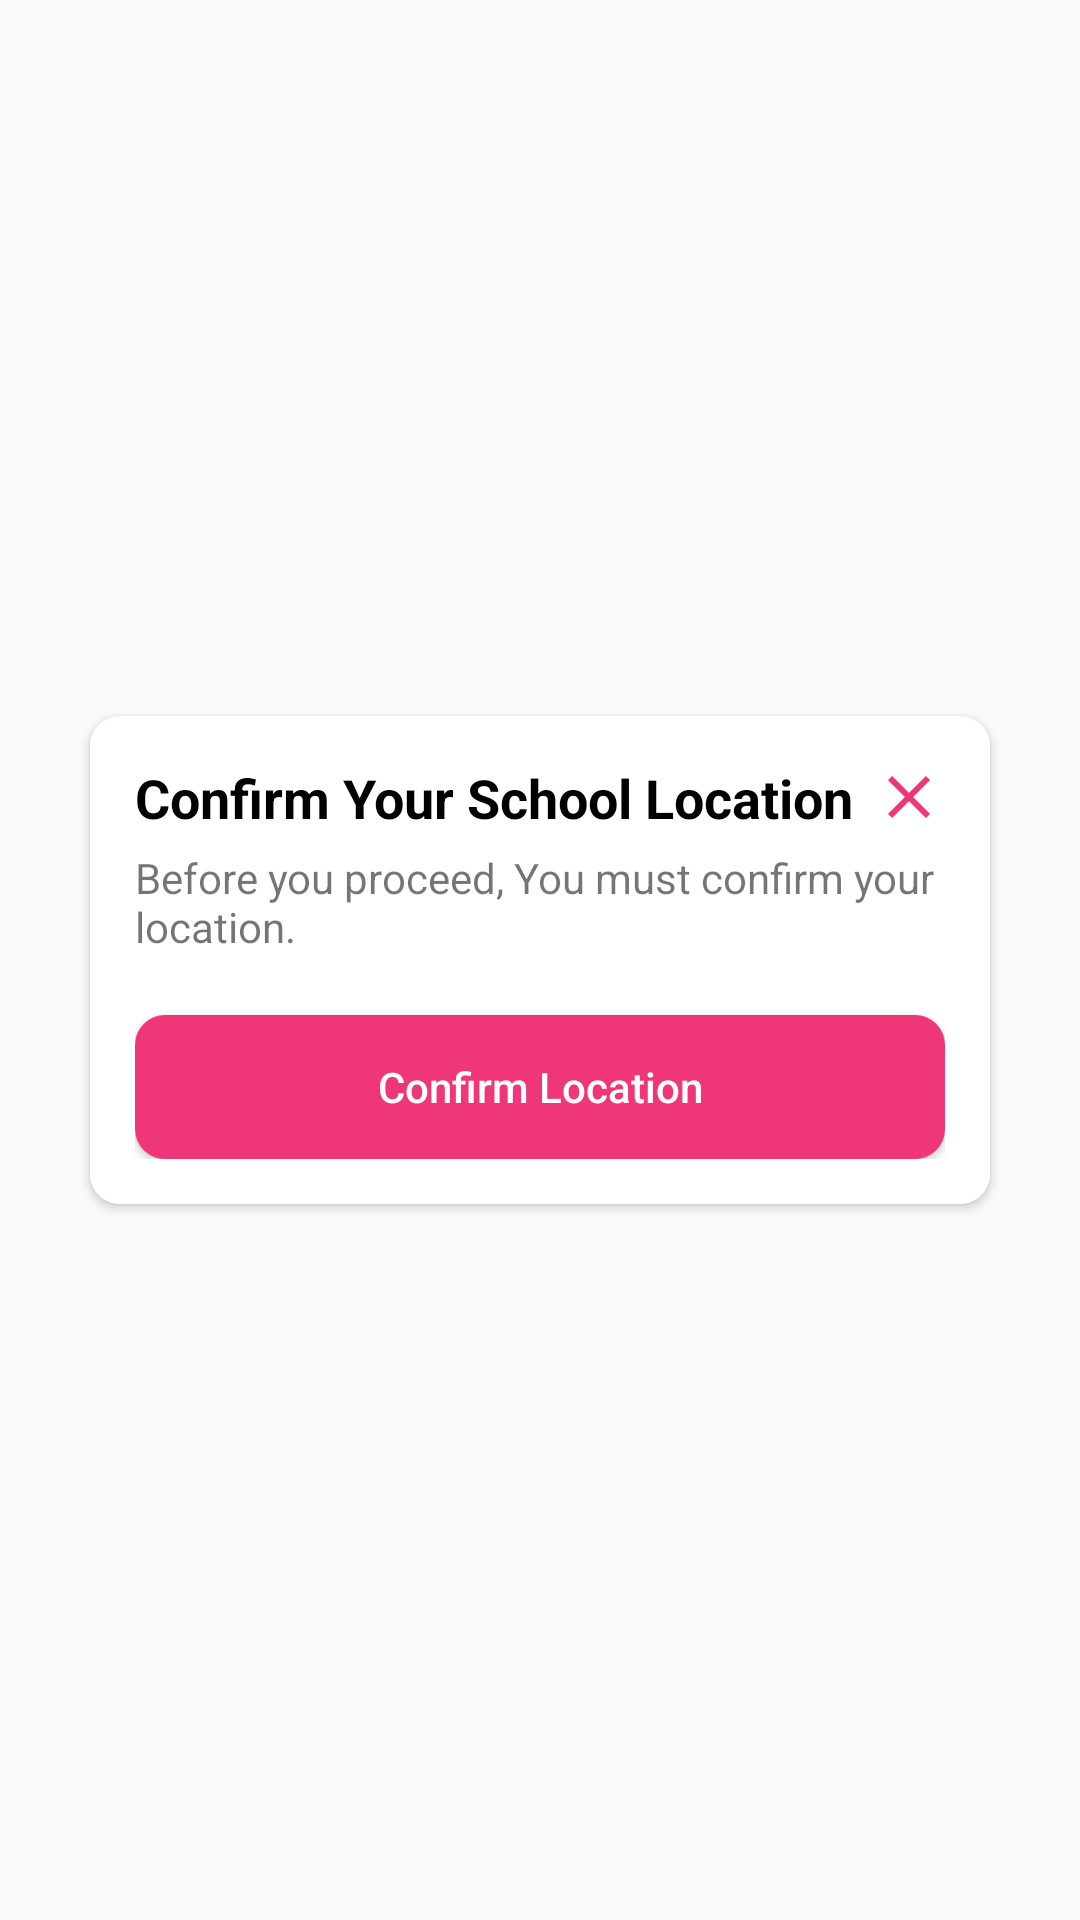

Locate icon controls on the screen. Image size 1080 x 1920, boxes as (x1, y1, x2, y2).
close: (888, 776, 930, 818)
